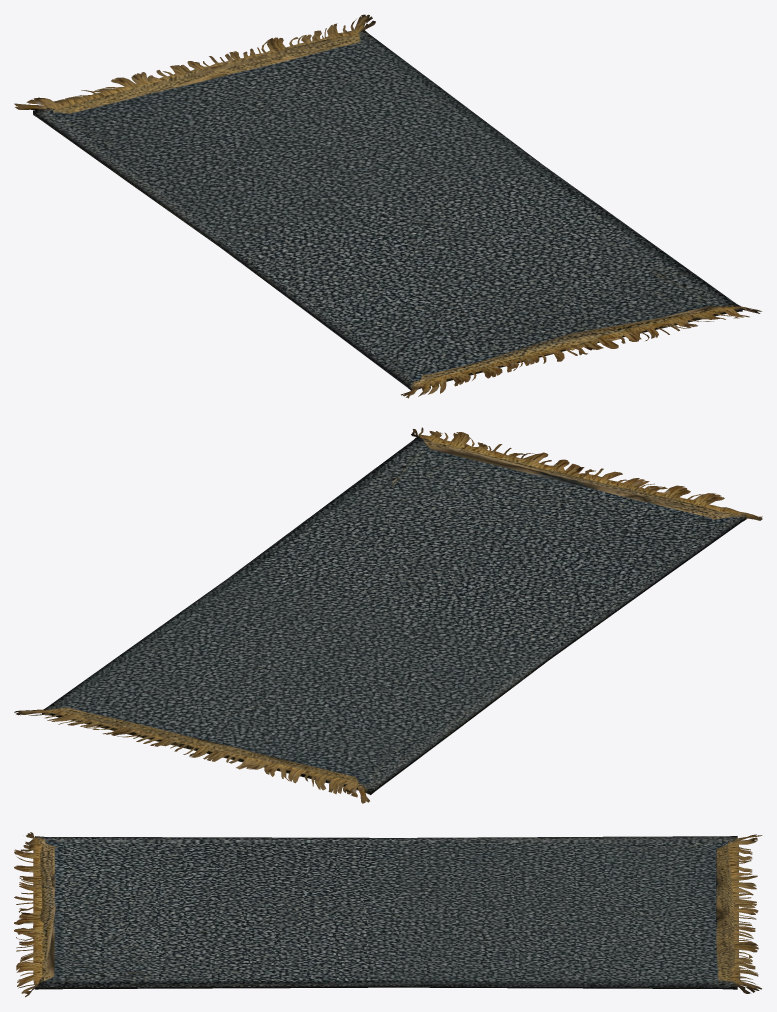
File: tappeto_corsia.glb
3 views of the same model, one above another, from view 1: azimuth 30°, elevation 25°; view 2: azimuth 150°, elevation 25°; view 3: azimuth 270°, elevation 25° (orthographic). The views are drawn at different scales.
Parts seen in each view (by area): view 1: tappeto_corsia; view 2: tappeto_corsia; view 3: tappeto_corsia.
Boxes of the visible parts, x1,y1,x2,y2 form: tappeto_corsia: (14,14,761,398); tappeto_corsia: (14,427,762,803); tappeto_corsia: (14,832,762,997).
Bounding box in the file's own units: 0.5171 × 0.015 × 0.9995.
1 material, 1 textured.
